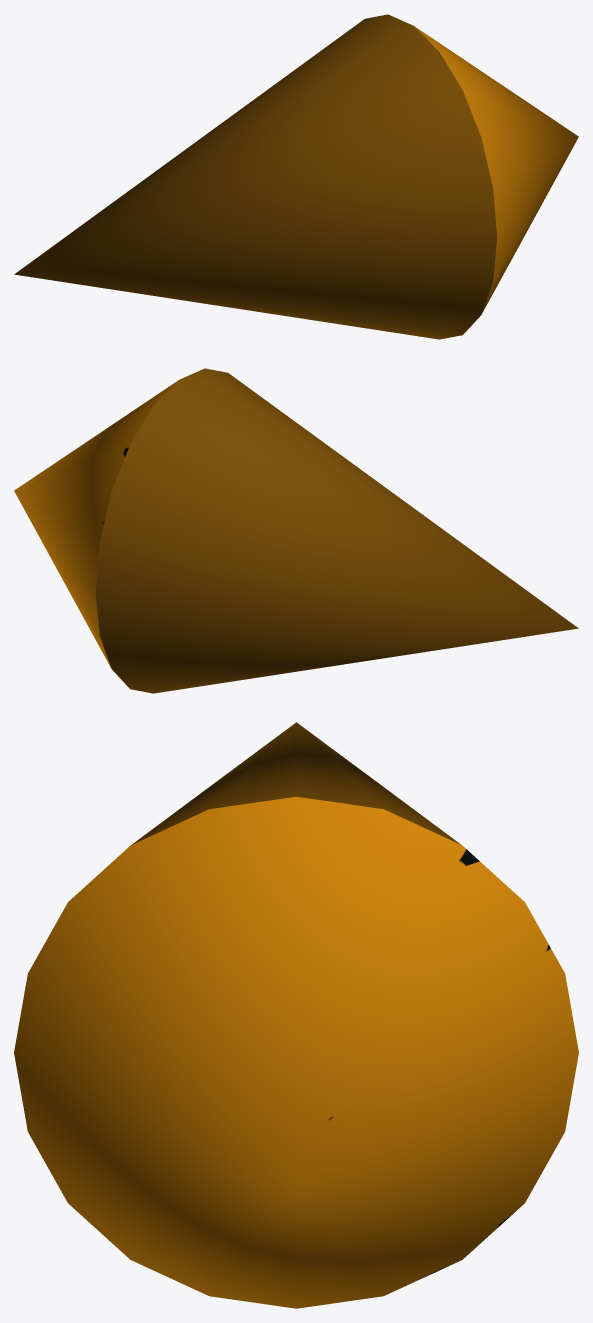
Rendered from Dragon Tail.fbx.
3 renders of one model, top to bottom at view 1: azimuth 30°, elevation 25°; view 2: azimuth 150°, elevation 25°; view 3: azimuth 270°, elevation 25°, orthographic. The views are drawn at different scales.
Parts seen in each view (by area): view 1: pCone1; view 2: pCone1; view 3: pCone1.
Part boxes in pixels (x1,y1,x2,y2): pCone1: (14,14,578,339); pCone1: (14,368,578,693); pCone1: (14,722,578,1308).
Bounding box in the file's own units: 10.7 × 5.47 × 5.47.
Materials: 1 (1 with a texture image).
